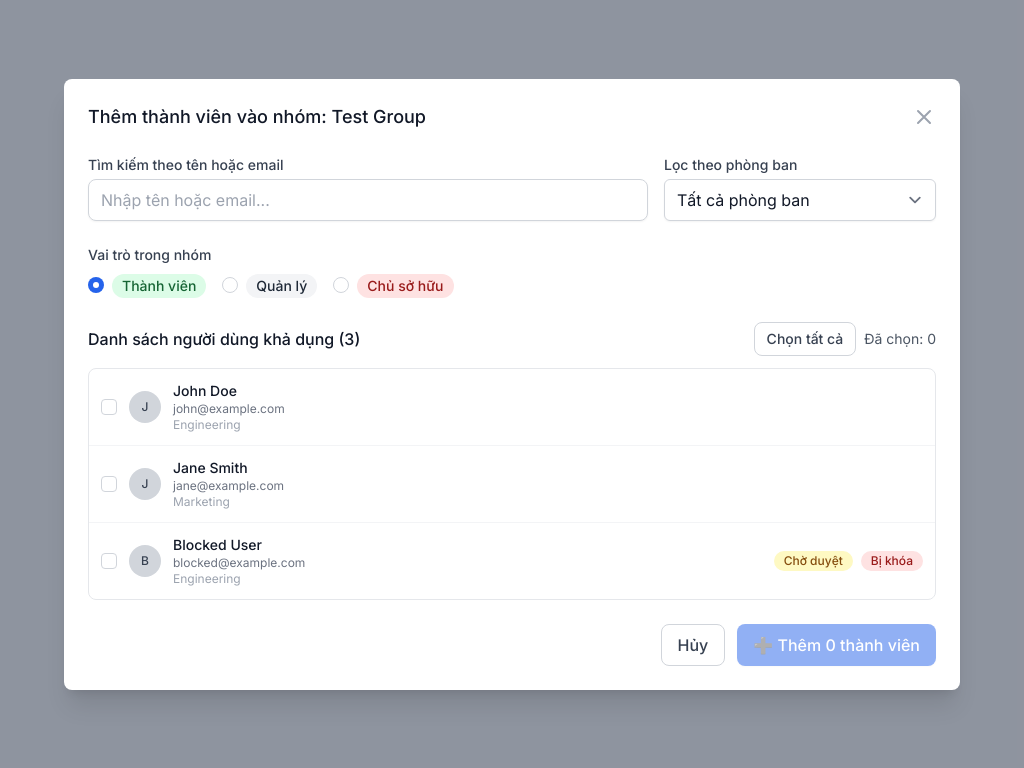
Test: UserSearchModal › User Selection › should allow selecting all users
The image size is (1024, 768).
Step 1. Click the button "Chọn tất cả" → (805, 338), box [754,322,856,356]
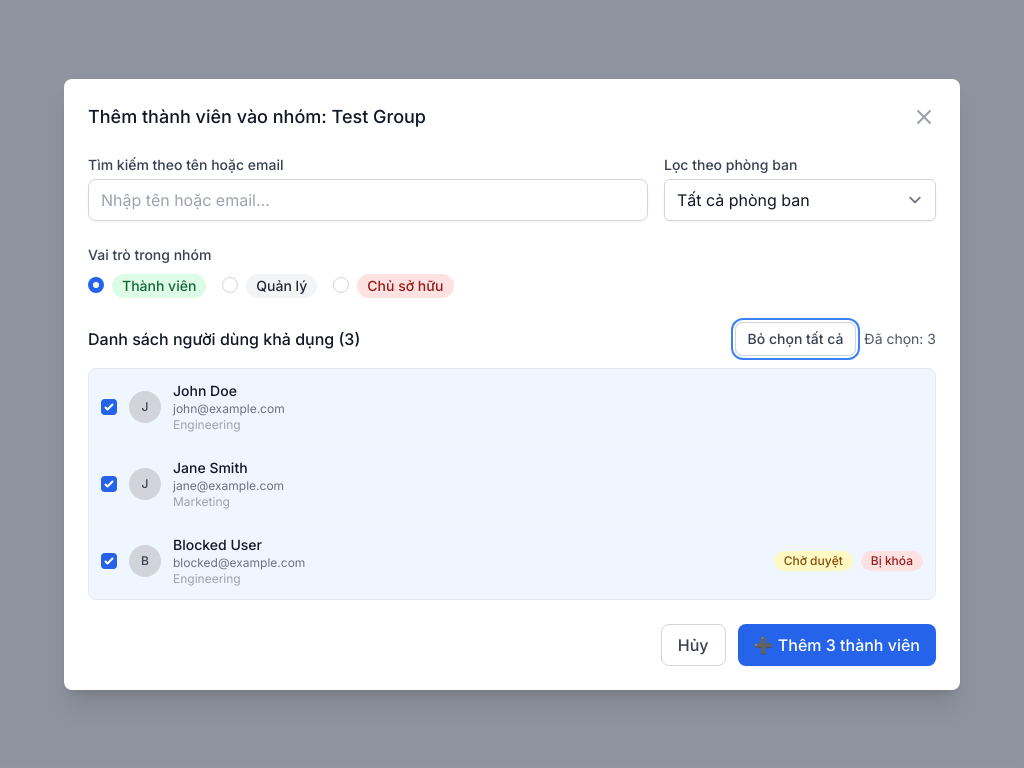
Expected: the text "Đã chọn: 3" is shown, [864,330,936,346]
Expected: the button "Bỏ chọn tất cả" is shown, [735,322,856,356]
